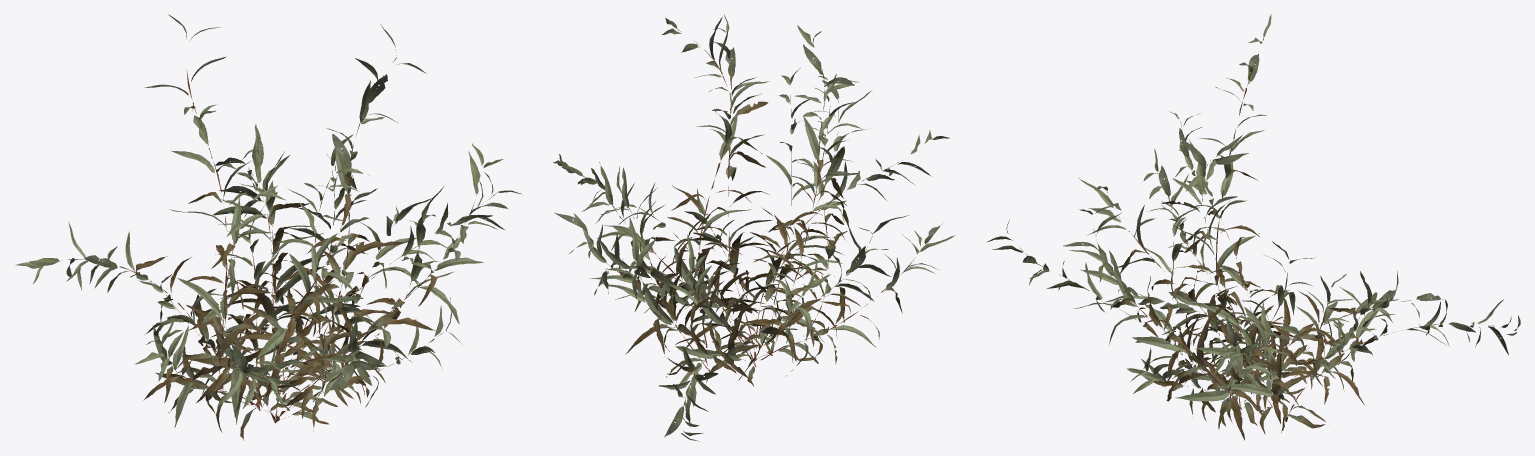
File: shrub-02.glb
The picture shows the model from 3 angles, left to right: view 1: azimuth 30°, elevation 25°; view 2: azimuth 150°, elevation 25°; view 3: azimuth 270°, elevation 25°; orthographic projection. The views are drawn at different scales.
Visible parts, largest first — view 1: shrub_02_a, shrub_02_c, shrub_02_b, shrub_02_d; view 2: shrub_02_c, shrub_02_a, shrub_02_b, shrub_02_d; view 3: shrub_02_a, shrub_02_b, shrub_02_c, shrub_02_d.
Part boxes in pixels (<box>): shrub_02_a: <box>144,14,507,440</box>; shrub_02_c: <box>15,124,522,432</box>; shrub_02_b: <box>182,24,432,424</box>; shrub_02_d: <box>138,134,462,430</box>; shrub_02_c: <box>553,76,955,441</box>; shrub_02_a: <box>581,14,871,361</box>; shrub_02_b: <box>601,17,908,380</box>; shrub_02_d: <box>554,67,833,361</box>; shrub_02_a: <box>1063,14,1443,440</box>; shrub_02_b: <box>1104,135,1398,433</box>; shrub_02_c: <box>986,111,1520,422</box>; shrub_02_d: <box>1126,149,1378,421</box>.
Size of the model in its own units: 1.76 by 1.68 by 2.28.
Materials: 4 (4 with a texture image).
